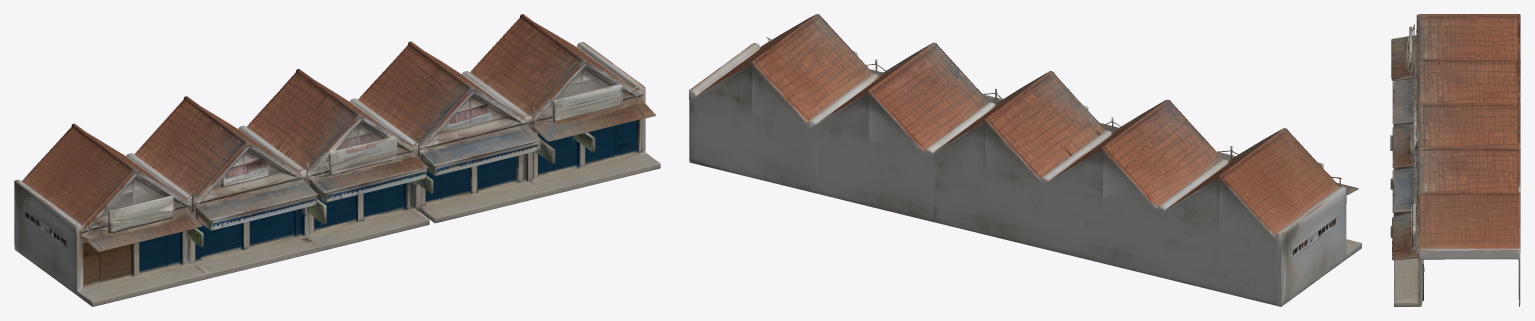
File: warungruko.glb
The picture shows the model from 3 angles, left to right: view 1: azimuth 30°, elevation 25°; view 2: azimuth 150°, elevation 25°; view 3: azimuth 270°, elevation 25°; orthographic projection. The views are drawn at different scales.
Visible parts, largest first — view 1: material; view 2: material; view 3: material.
Boxes of the visible parts, box(x1,y1,x2,y2) form: material: box(14, 14, 660, 306); material: box(689, 14, 1361, 306); material: box(1390, 14, 1520, 306).
Size of the model in its own units: 1.15 by 0.2178 by 0.2814.
1 material, 1 textured.
